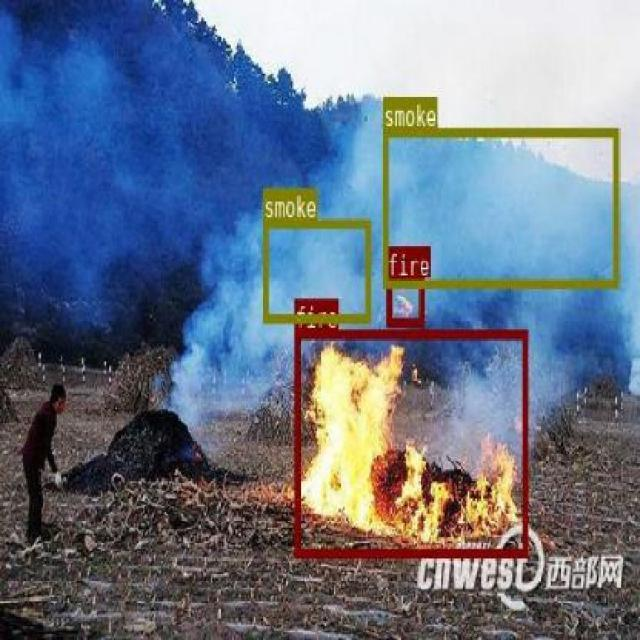Fire: (293, 328, 527, 556), (386, 277, 424, 325)
Smoke: (24, 43, 176, 322), (382, 127, 618, 286), (262, 216, 370, 322)
